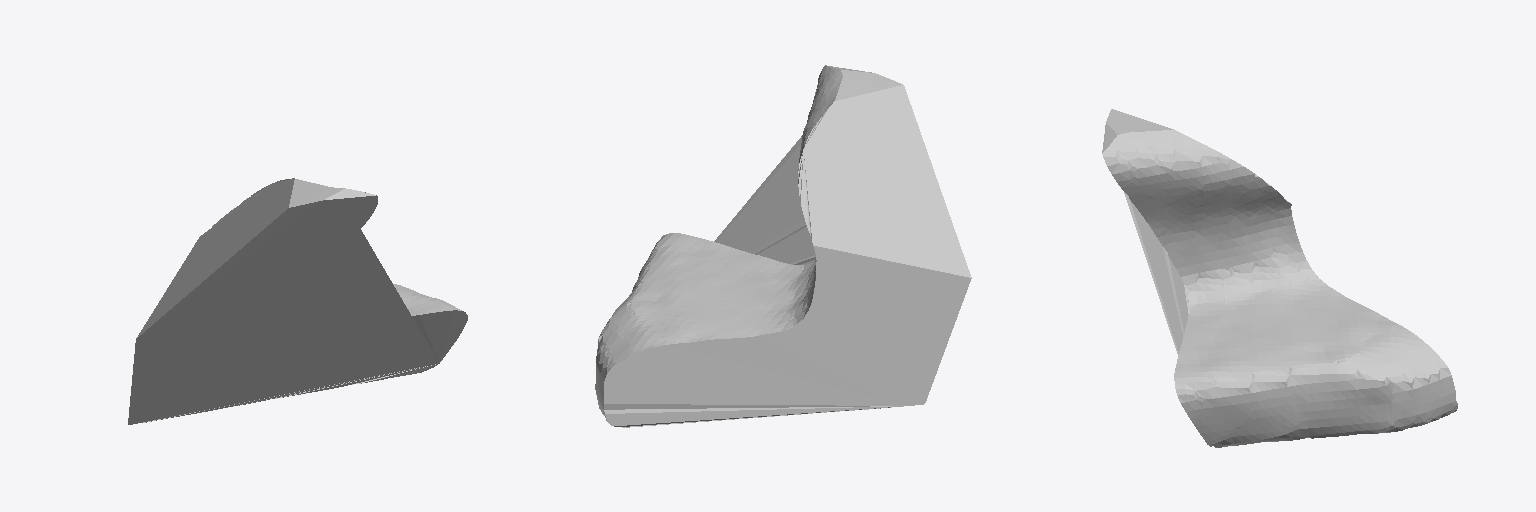
File: low_cell_066.obj
The picture shows the model from 3 angles: view 1: azimuth 30°, elevation 25°; view 2: azimuth 150°, elevation 25°; view 3: azimuth 270°, elevation 25°; orthographic projection.
Visible parts, largest first — view 1: low_cell.066_low_cell.065; view 2: low_cell.066_low_cell.065; view 3: low_cell.066_low_cell.065.
Part boxes in pixels (x1,y1,x2,y2): low_cell.066_low_cell.065: (128,178,467,424); low_cell.066_low_cell.065: (595,65,971,427); low_cell.066_low_cell.065: (1102,109,1457,447).
Size of the model in its own units: 0.7696 by 0.5671 by 0.7318.